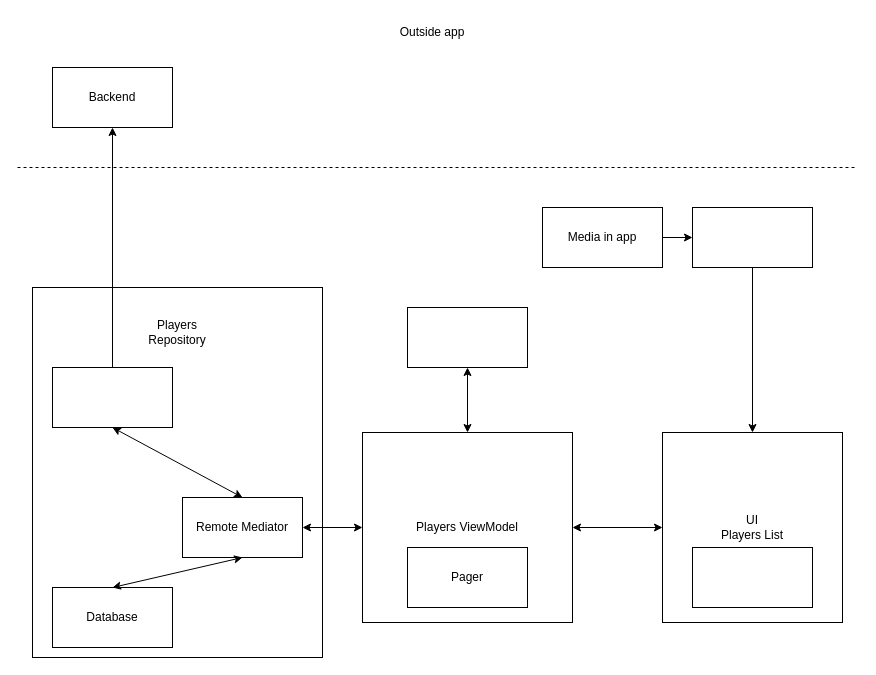
The diagram is 876 pixels wide and 675 high, and some of its shapes have lost their labels. Here are the shapes that lost their labels. From the top down, the centre of each, then its label:
At (752,237): "Image Loader".
At (467,337): "Player Details UseCase".
At (112,397): "Get Players API".
At (752,577): "Paged List".
